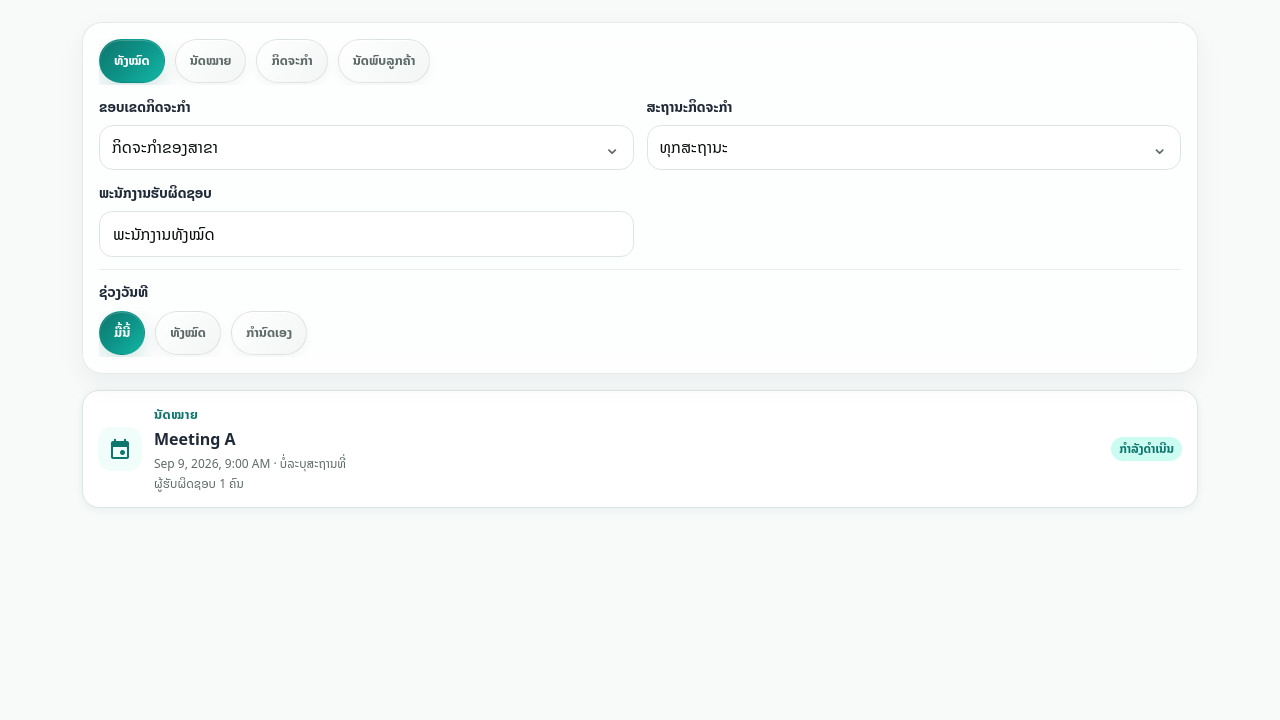
Scenario: ActivitiesPage shared filters › defaults to today in Laos and can show all dates
The image size is (1280, 720).
Expected: the heading "Meeting A" is shown, [154,426,236,452]
Expected: the text "Meeting B" is not shown
Click the button "ທັງໝົດ" below "ຊ່ວງວັນທີ": {"x": 188, "y": 333} [155,311,221,355]
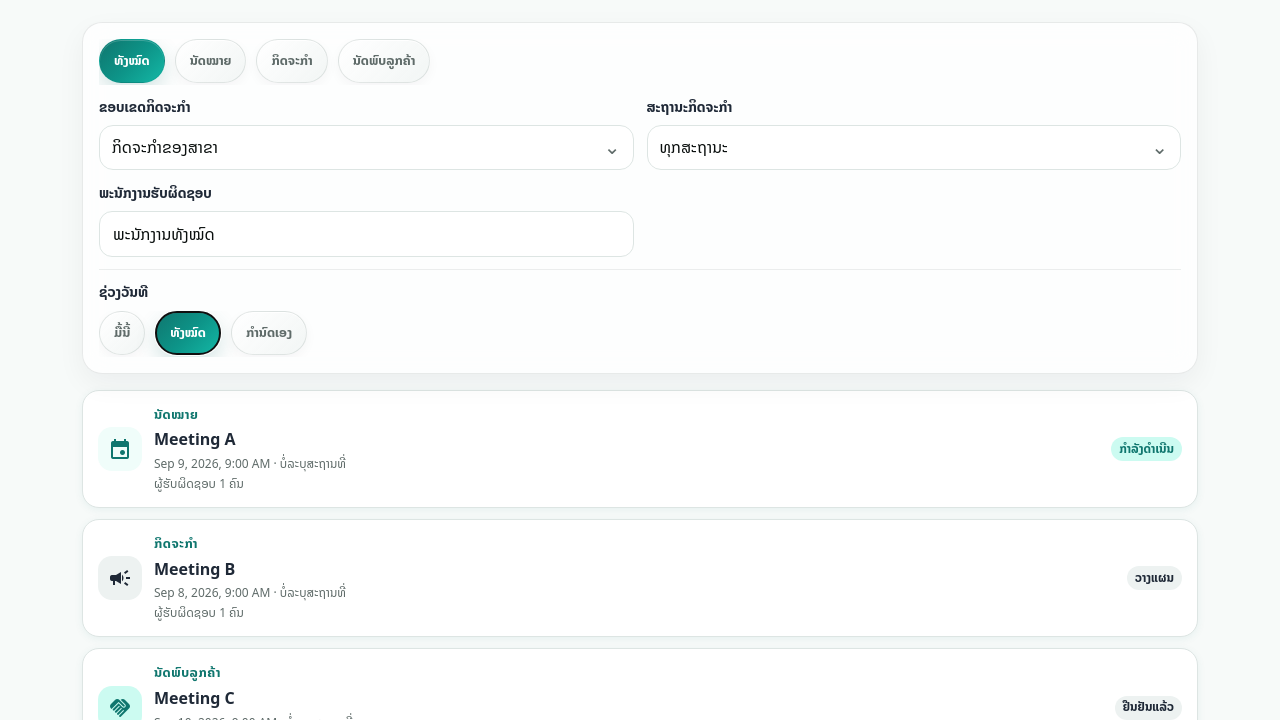
Expected: the heading "Meeting A" is shown, [154,426,236,452]
Expected: the heading "Meeting B" is shown, [154,556,235,582]
Expected: the heading "Meeting C" is shown, [154,685,235,711]
